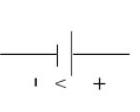Battery: (29, 27, 87, 95)
